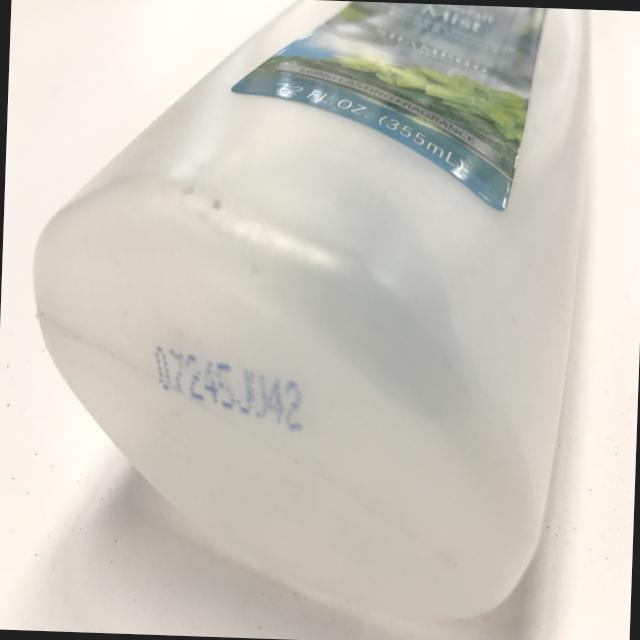Plastic: (13, 0, 616, 640)
